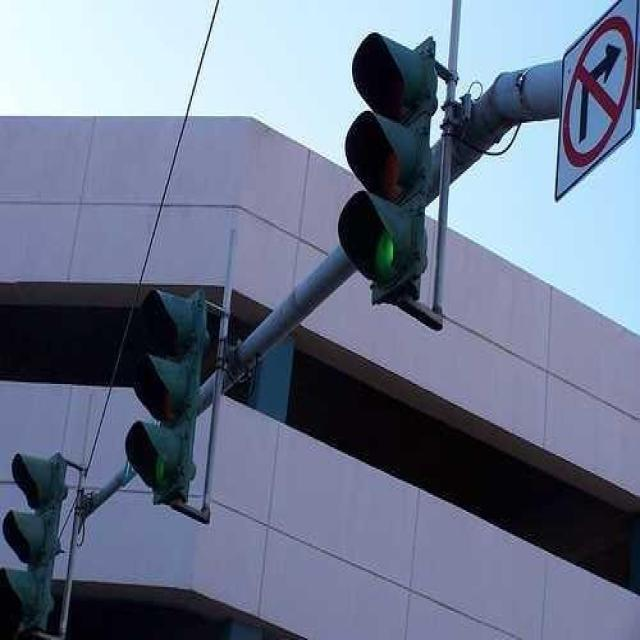Traffic Light -Green-: (310, 15, 458, 328), (123, 283, 211, 518)
